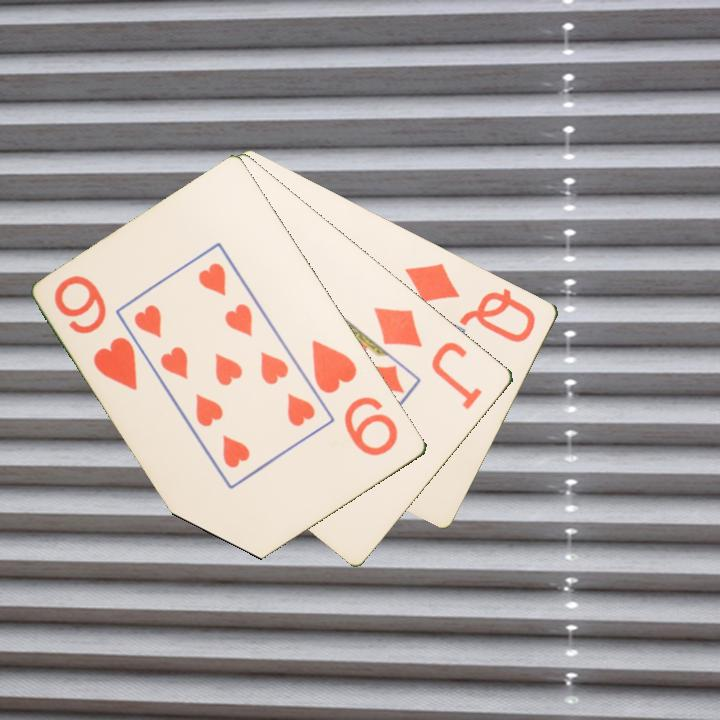9h: (308, 336, 402, 460), (50, 271, 141, 394)
Jd: (370, 303, 486, 413)
Qd: (401, 258, 540, 346)
